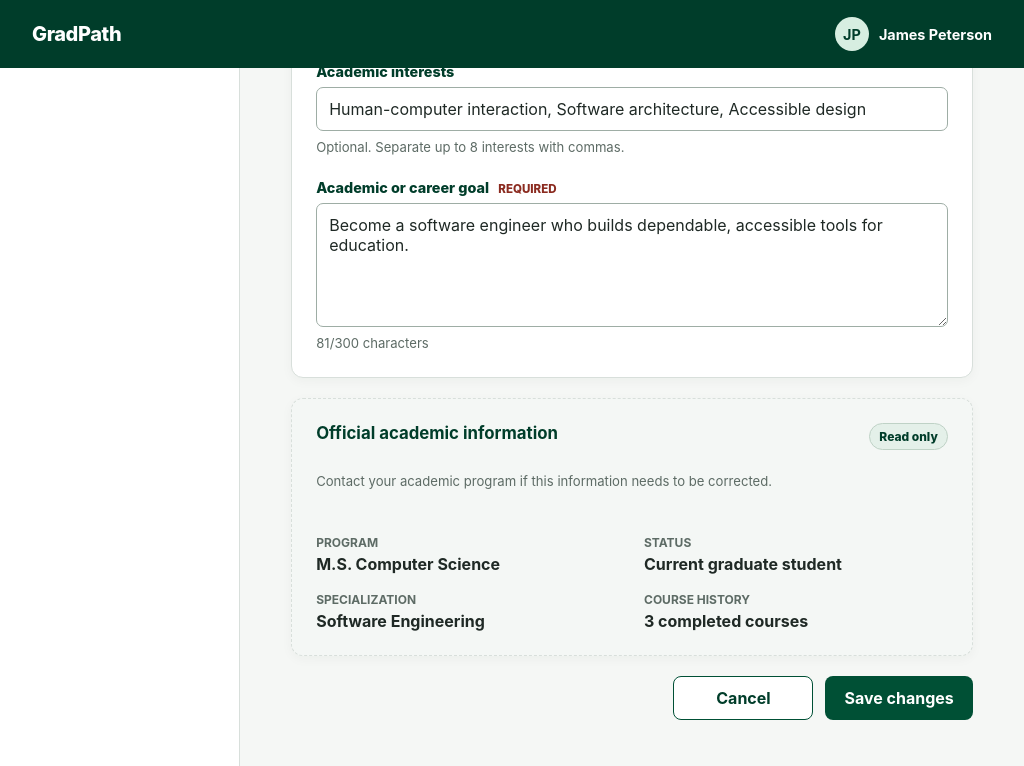
it: maps server interest errors to the input and focuses it
(page scrolled)
Click the button "Save changes" at (899, 698), box [826,676,973,720]
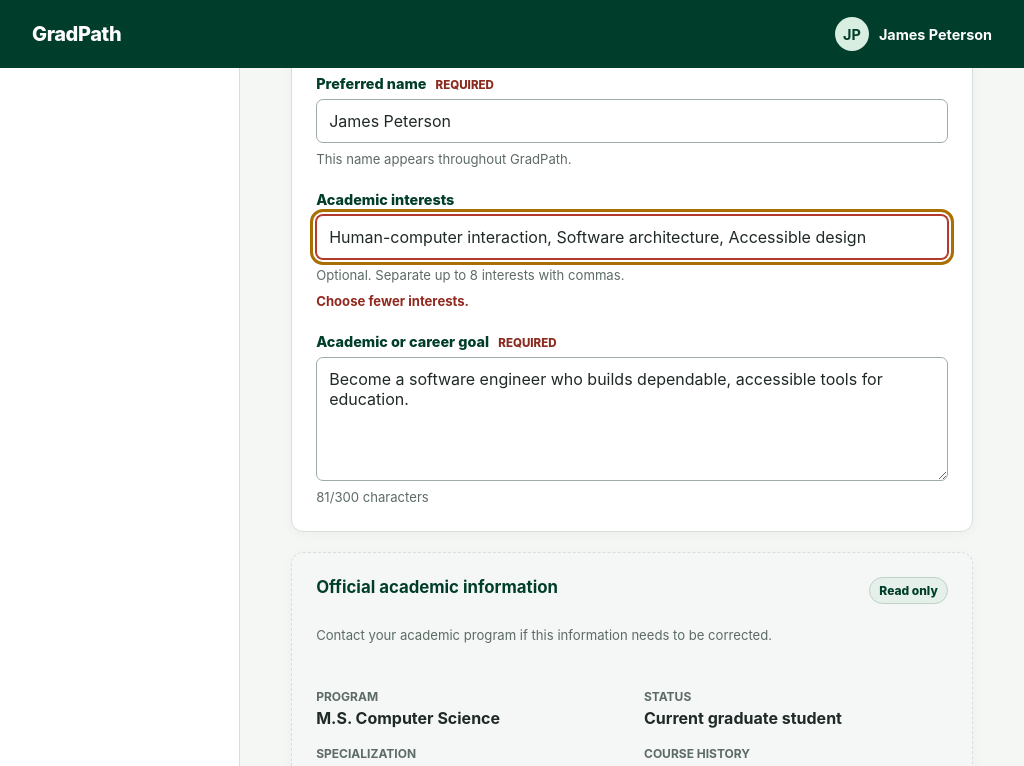
Check: the text "Choose fewer interests." is shown, box [316,293,469,309]
